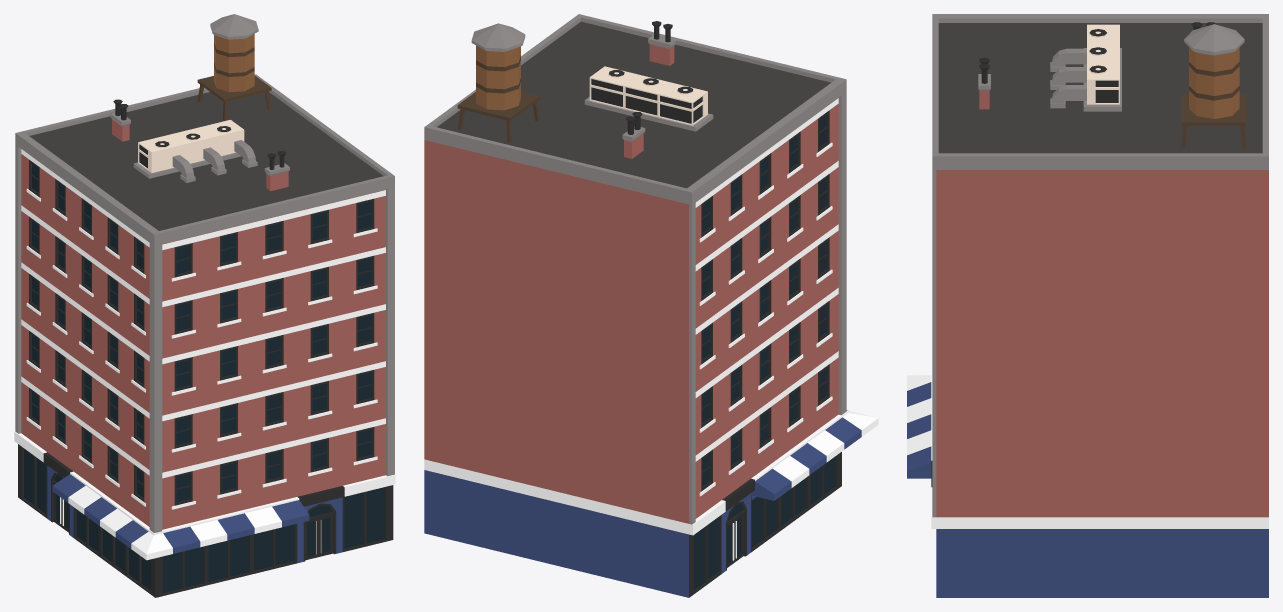
File: building-block-5floor-corner.glb
3 views of the same model, side by side, from view 1: azimuth 30°, elevation 25°; view 2: azimuth 150°, elevation 25°; view 3: azimuth 270°, elevation 25° (orthographic). The views are drawn at different scales.
Visible parts, largest first — view 1: building-block-5floor-corner; view 2: building-block-5floor-corner; view 3: building-block-5floor-corner.
Boxes of the visible parts, box(x1,y1,x2,y2) form: building-block-5floor-corner: box(14, 14, 395, 597); building-block-5floor-corner: box(424, 14, 878, 597); building-block-5floor-corner: box(907, 14, 1268, 597).
Bounding box in the file's own units: 14.25 × 23.81 × 14.25.
Materials: 1 (1 with a texture image).
